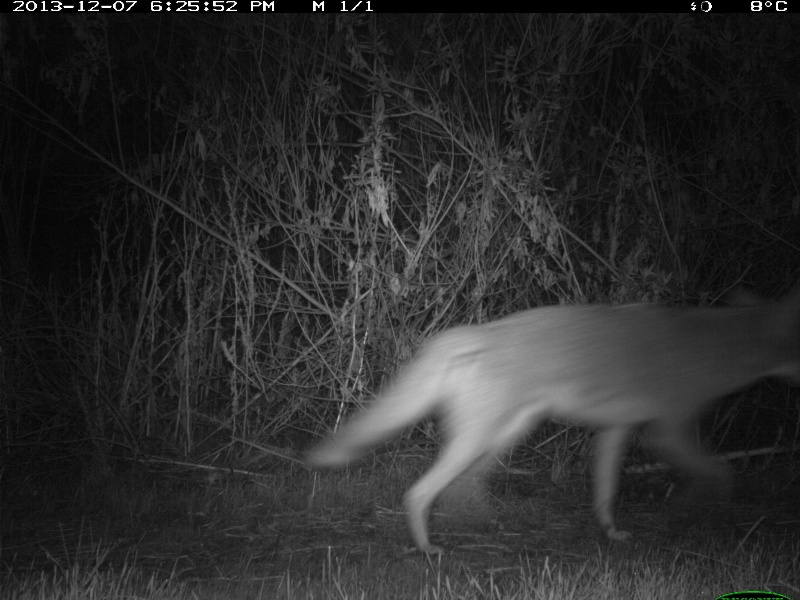coyote: (296, 277, 800, 558)
